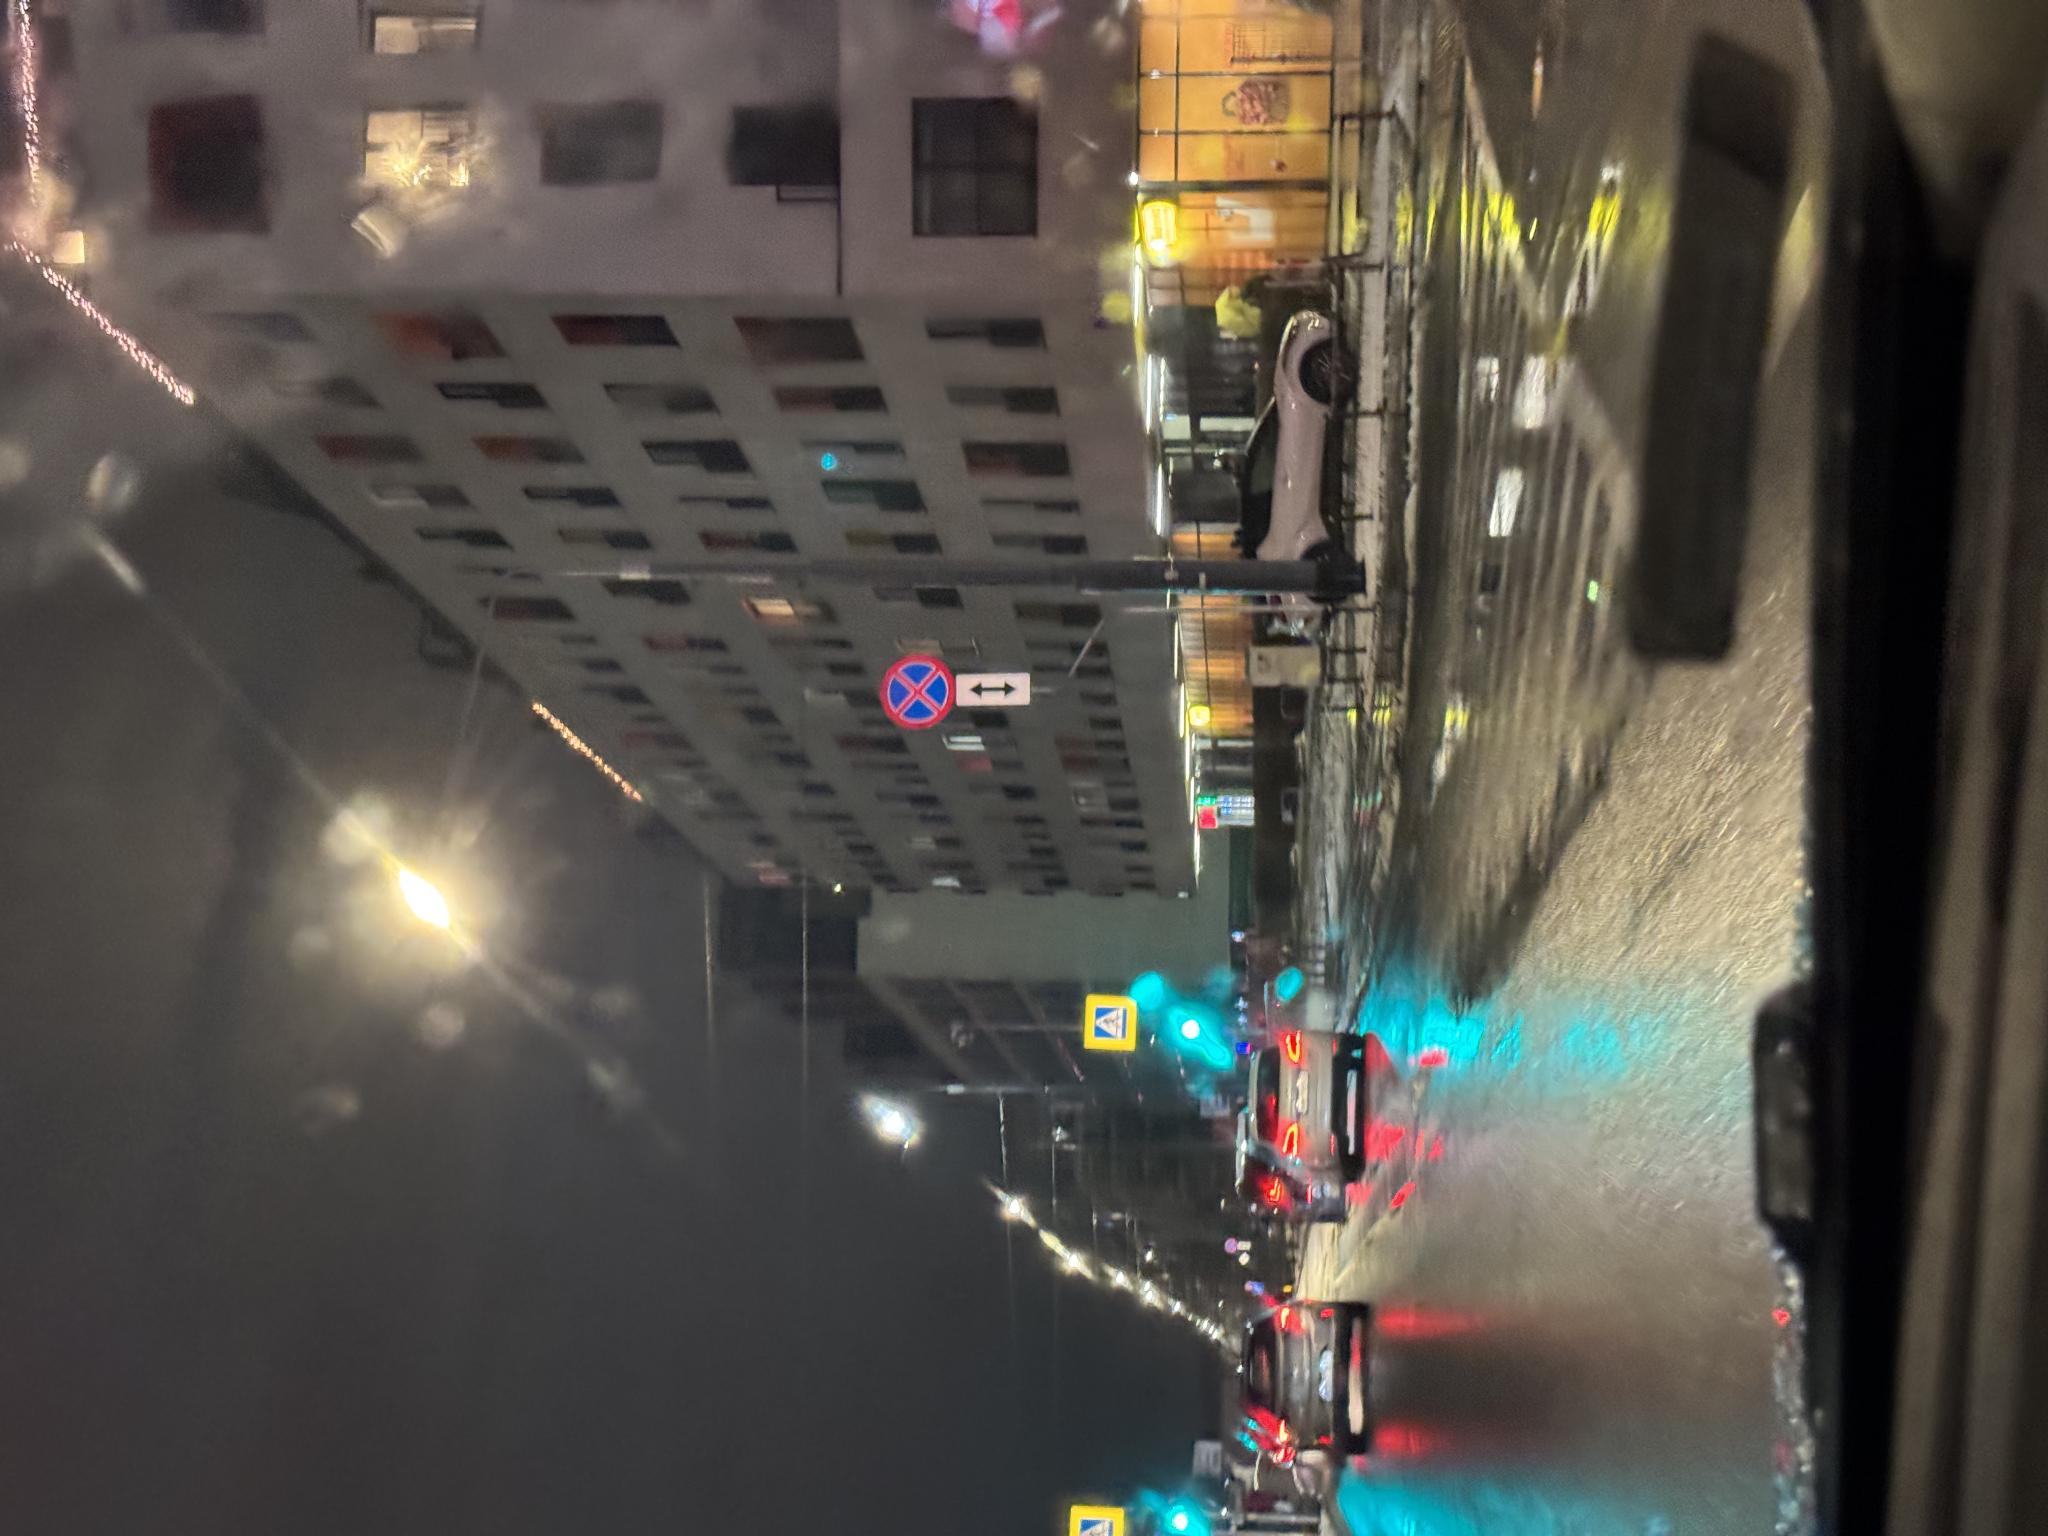information: (495, 1094, 529, 1128), (0, 1079, 20, 1113)
other: (830, 956, 864, 1030)
prohibitory: (806, 879, 884, 956)
